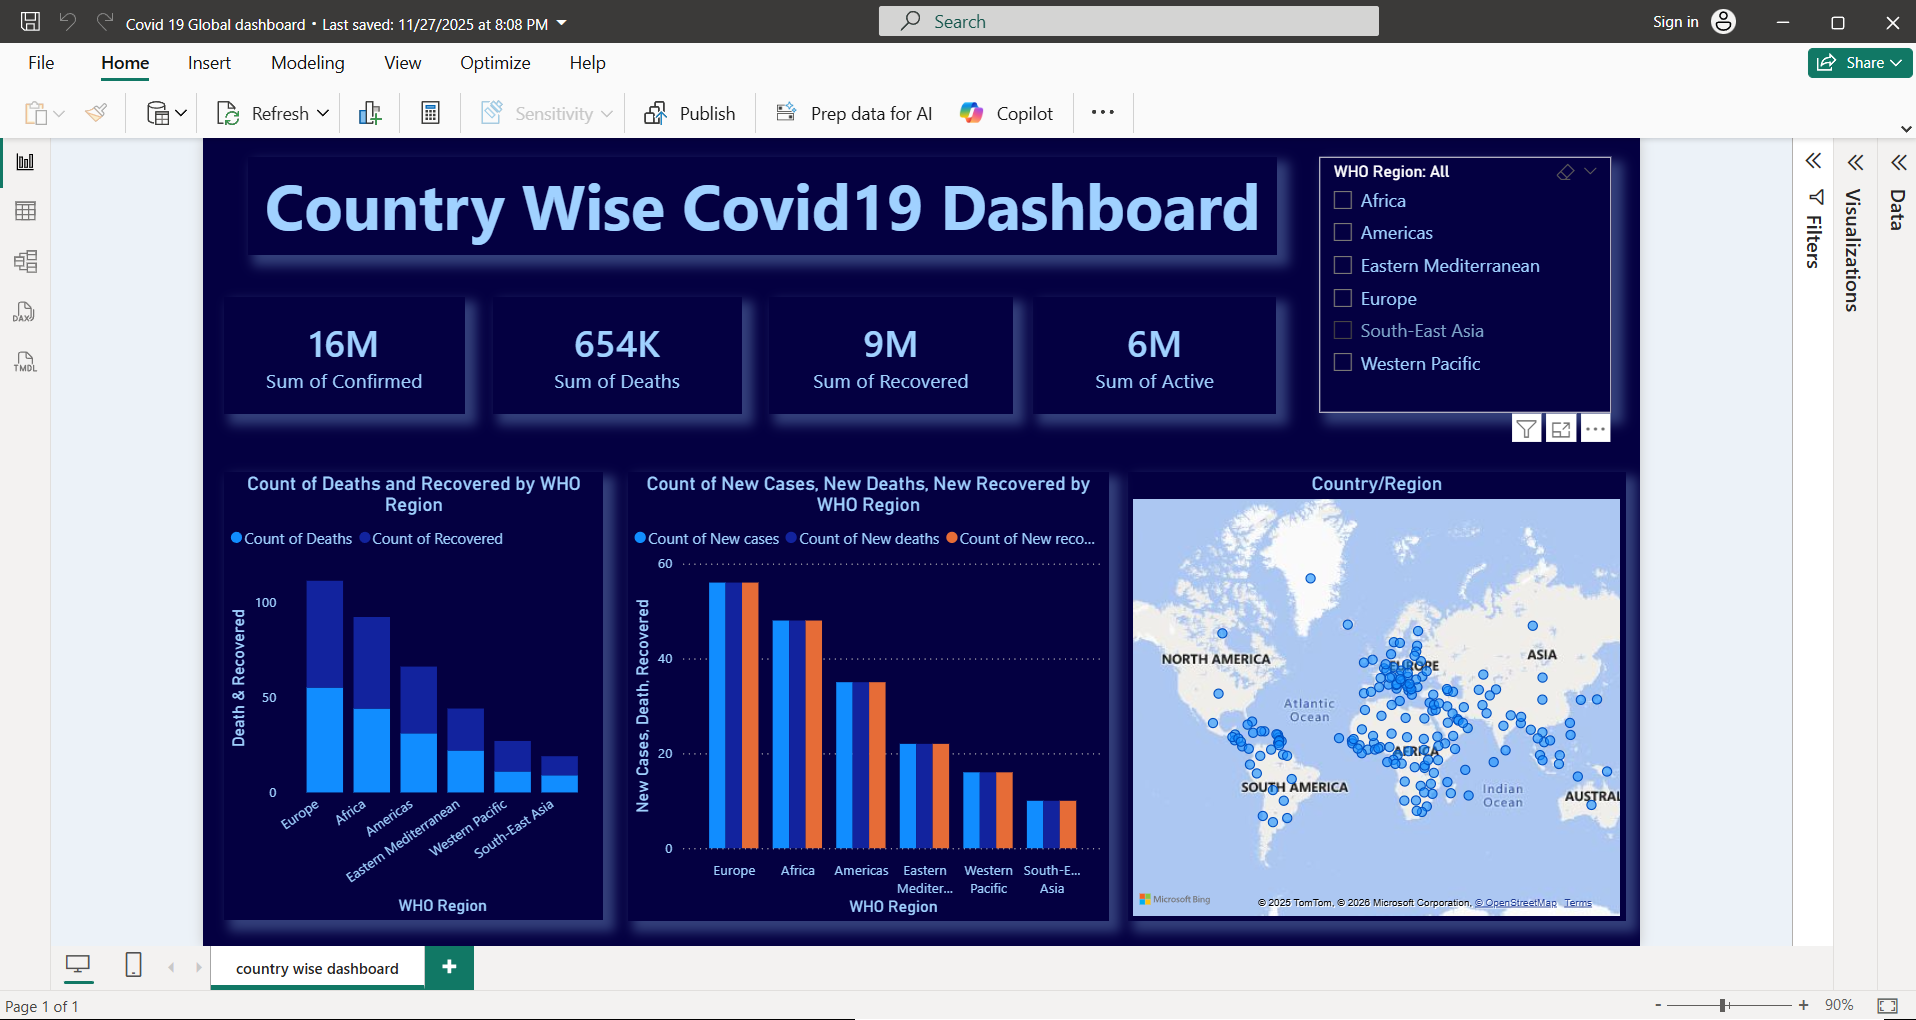

The page's visual inventory and layout, read from the dashboard file:
{"tool":"powerbi","page":{"name":"country wise dashboard","canvas":[1280,720],"ordinal":0},"visuals":[{"type":"textbox","box":[39.8,16.9,916.9,86.9],"z":0},{"type":"map","fields":{"Category":["country_wise_latest.Country/Region"]},"box":[739.5,296.8,527.2,399.3],"z":1000},{"type":"cardVisual","fields":{"Data":["Sum(country_wise_latest.Confirmed)"]},"box":[19.3,141.2,214.7,103.8],"z":2000},{"type":"cardVisual","fields":{"Data":["Sum(country_wise_latest.Deaths)"]},"box":[258.2,141.2,222,103.8],"z":3000},{"type":"cardVisual","fields":{"Data":["Sum(country_wise_latest.Recovered)"]},"box":[504.3,141.2,217.2,103.8],"z":4000},{"type":"slicer","fields":{"Values":["country_wise_latest.WHO Region"]},"box":[994.1,16.9,260.6,228],"z":5000},{"type":"cardVisual","fields":{"Data":["Sum(country_wise_latest.Active)"]},"box":[739.5,141.2,217.2,103.8],"z":6000},{"type":"lineStackedColumnComboChart","fields":{"Category":["country_wise_latest.WHO Region"],"Y":["Count(country_wise_latest.Deaths)","CountNonNull(country_wise_latest.Recovered)"]},"box":[19.3,296.8,337.8,399.3],"z":7000},{"type":"clusteredColumnChart","fields":{"Category":["country_wise_latest.WHO Region"],"Y":["CountNonNull(country_wise_latest.New cases)","CountNonNull(country_wise_latest.New deaths)","CountNonNull(country_wise_latest.New recovered)"]},"box":[378.8,296.8,342.6,399.3],"z":8000}]}

Visuals, with their boxes on the page's 1280x720 design canvas (x1, y1, x2, y2). These are canvas units, not pixel positions in the 1916x1020 screenshot, which may show the page scaled, cropped or inside an application window:
textbox: 40,17,957,104
map - country_wise_latest.Country/Region: 740,297,1267,696
cardVisual - Sum(country_wise_latest.Confirmed): 19,141,234,245
cardVisual - Sum(country_wise_latest.Deaths): 258,141,480,245
cardVisual - Sum(country_wise_latest.Recovered): 504,141,722,245
slicer - country_wise_latest.WHO Region: 994,17,1255,245
cardVisual - Sum(country_wise_latest.Active): 740,141,957,245
lineStackedColumnComboChart - country_wise_latest.WHO Region x Count(country_wise_latest.Deaths): 19,297,357,696
clusteredColumnChart - country_wise_latest.WHO Region x CountNonNull(country_wise_latest.New cases): 379,297,721,696
